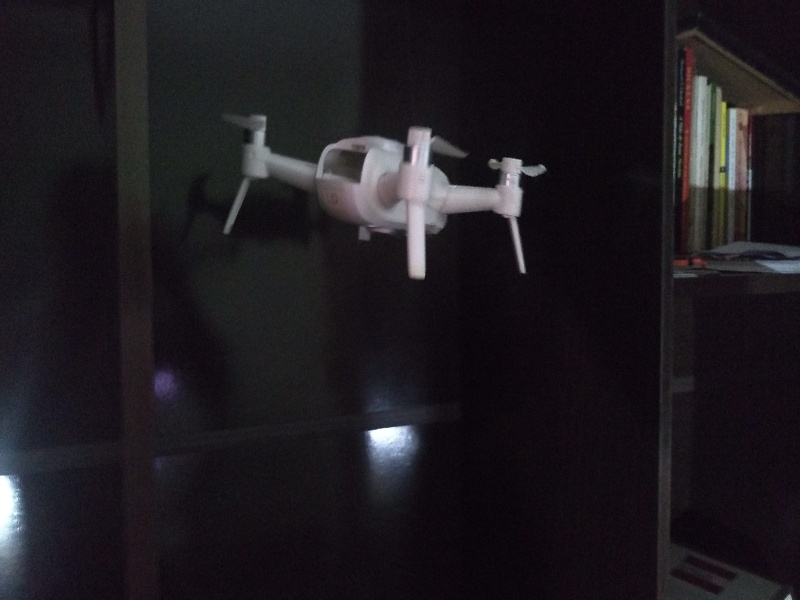drone: (204, 98, 545, 289)
